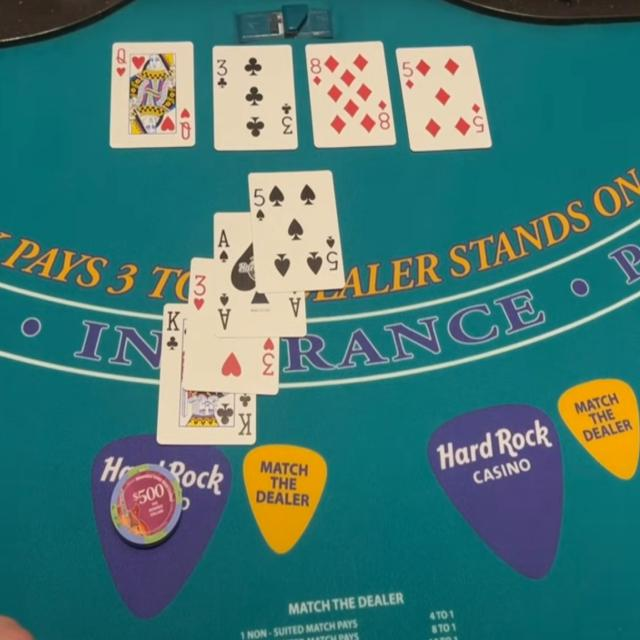3: (192, 271, 209, 297), (214, 56, 231, 77)
5: (252, 185, 269, 207), (400, 59, 415, 79)
8: (307, 54, 324, 76)
A: (215, 226, 233, 250)
K: (164, 308, 182, 332)
Q: (114, 46, 129, 66)
